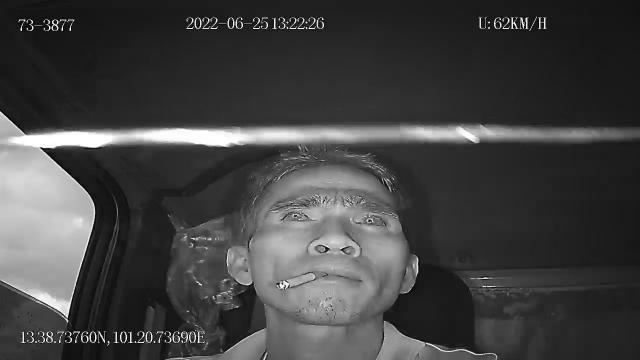SafeDriving: (344, 206, 394, 232), (274, 204, 319, 228)
Smoking: (275, 271, 325, 291)
